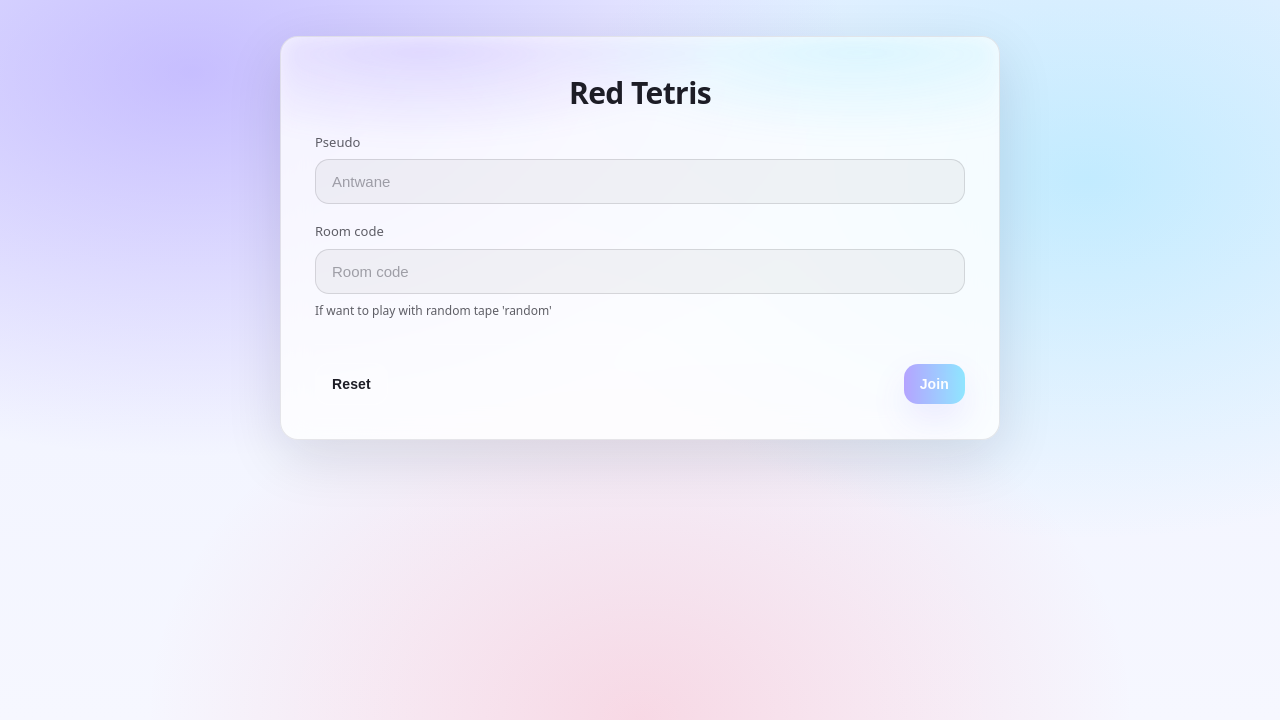
Test: Home › shows validation error and disables join when values are not alphanumeric
Type "Antoine!" into the field with placeholder "Antwane" at [640, 182], box [330,172,950,191]
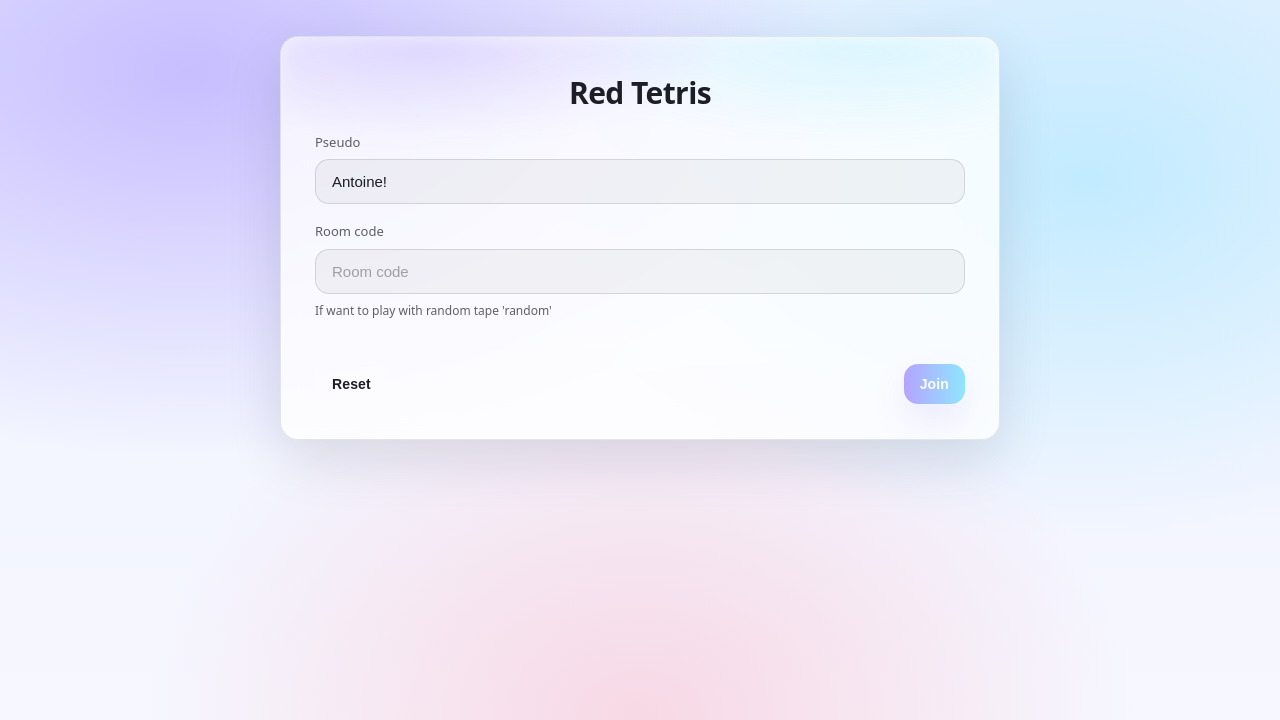
Type "Room42" into the field with placeholder "Room code" at [640, 272], box [330,262,950,281]
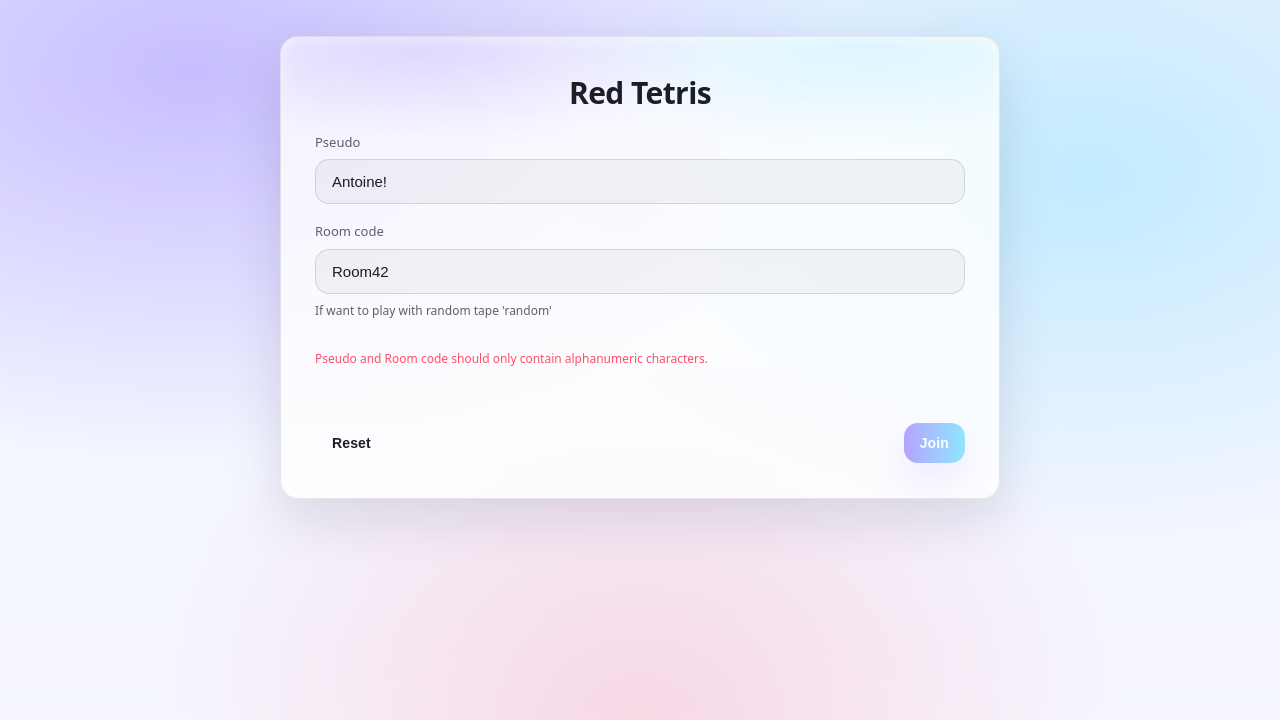
Expected: the button "Join" is disabled, [904,423,965,463]
Expected: the text "should only contain alphanumeric characters" is shown, [315,350,708,367]
